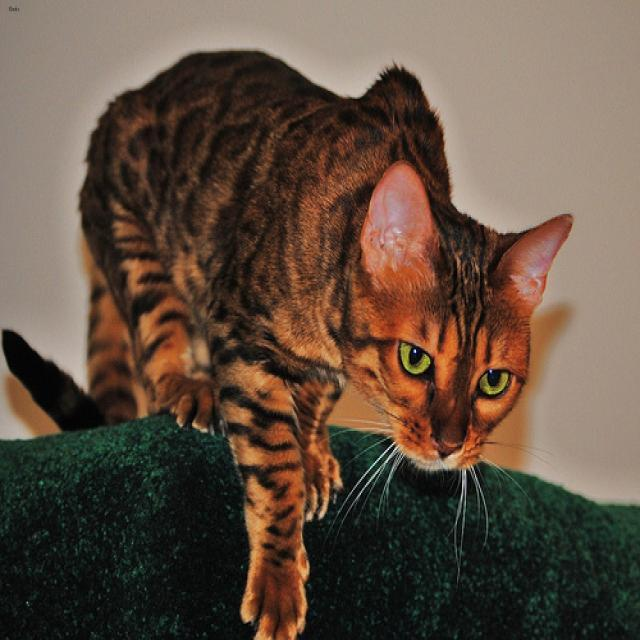Bengal: (353, 157, 581, 479)
